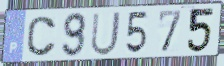5: (186, 6, 217, 54), (124, 9, 151, 56)
7: (157, 8, 184, 55)
9: (60, 11, 88, 59)
C: (25, 15, 58, 58)
U: (89, 10, 123, 58)
